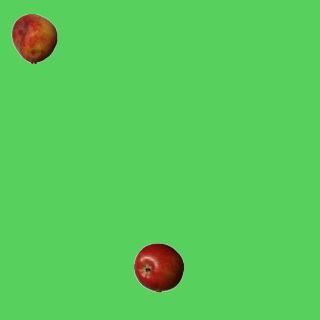Apple Braeburn: (133, 242, 183, 292)
Peach: (9, 13, 59, 63)
